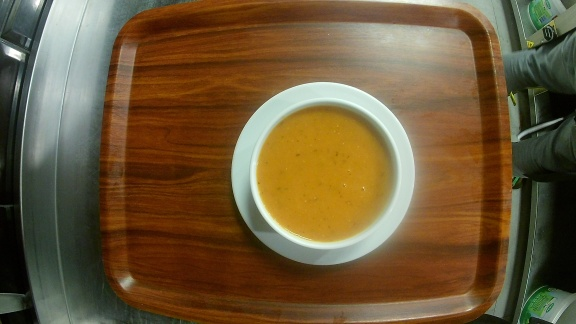ezogelin: (229, 81, 416, 266)
